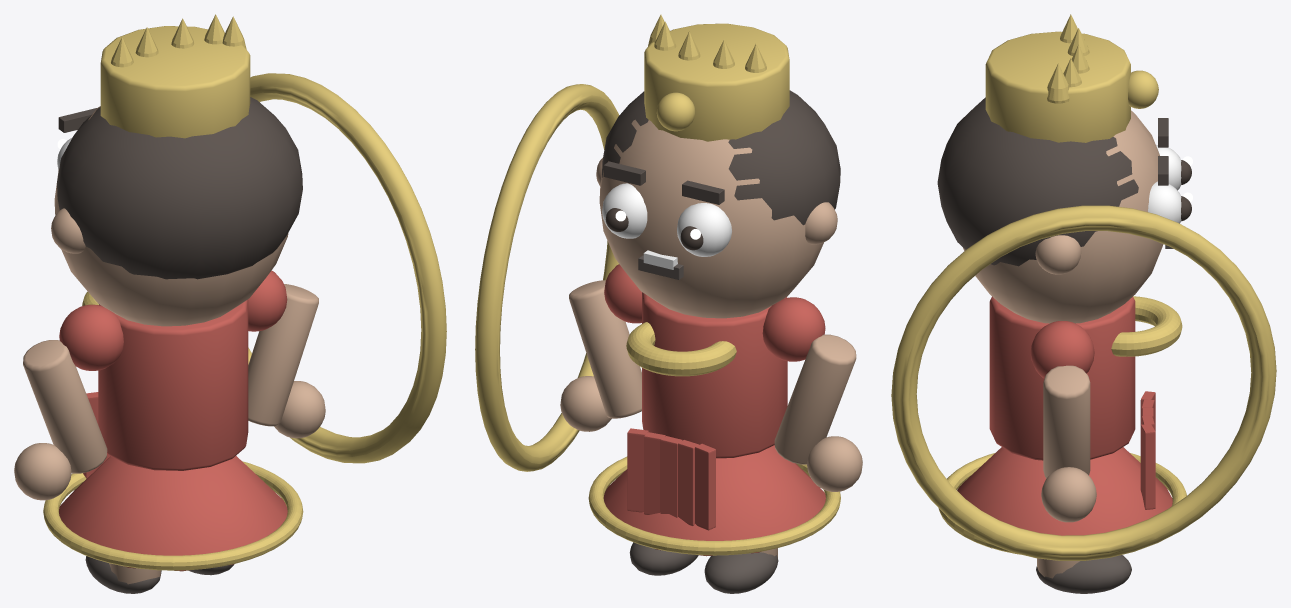
The model's file is warrior.glb.
The picture shows the model from 3 angles, left to right: view 1: azimuth 30°, elevation 25°; view 2: azimuth 150°, elevation 25°; view 3: azimuth 270°, elevation 25°; orthographic projection. The views are drawn at different scales.
Visible parts, largest first — view 1: GEO-warrior-hair, GEO-warrior-torso, GEO-warrior-dhoti, GEO-warrior-bow, GEO-warrior-mukut, GEO-warrior-head, GEO-warrior-arm, GEO-warrior-hem, GEO-warrior-arm.001, GEO-warrior-shoulder, GEO-warrior-hand, GEO-warrior-hand.001 (+4 smaller); view 2: GEO-warrior-head, GEO-warrior-torso, GEO-warrior-bow, GEO-warrior-mukut, GEO-warrior-hair, GEO-warrior-dhoti, GEO-warrior-arm, GEO-warrior-arm.001, GEO-warrior-hem, GEO-warrior-necklace, GEO-warrior-shoulder, GEO-warrior-hand (+16 smaller); view 3: GEO-warrior-bow, GEO-warrior-hair, GEO-warrior-torso, GEO-warrior-head, GEO-warrior-mukut, GEO-warrior-dhoti, GEO-warrior-arm.001, GEO-warrior-shoulder.001, GEO-warrior-necklace, GEO-warrior-hand.001, GEO-warrior-shoe.001, GEO-warrior-hem (+7 smaller).
Part boxes in pixels (<box>): GEO-warrior-hair: <box>57,97,302,279</box>; GEO-warrior-torso: <box>98,299,248,470</box>; GEO-warrior-dhoti: <box>59,456,287,571</box>; GEO-warrior-bow: <box>248,73,446,463</box>; GEO-warrior-mukut: <box>100,26,250,138</box>; GEO-warrior-head: <box>54,106,288,326</box>; GEO-warrior-arm: <box>23,340,107,473</box>; GEO-warrior-hem: <box>43,461,303,570</box>; GEO-warrior-arm.001: <box>248,284,318,426</box>; GEO-warrior-shoulder: <box>59,304,123,370</box>; GEO-warrior-hand: <box>14,443,71,500</box>; GEO-warrior-hand.001: <box>274,381,325,438</box>; GEO-warrior-head: <box>599,119,823,318</box>; GEO-warrior-torso: <box>642,292,787,458</box>; GEO-warrior-bow: <box>475,84,619,471</box>; GEO-warrior-mukut: <box>644,23,789,141</box>; GEO-warrior-hair: <box>602,90,840,225</box>; GEO-warrior-dhoti: <box>603,445,825,556</box>; GEO-warrior-arm: <box>774,334,856,464</box>; GEO-warrior-arm.001: <box>569,280,641,418</box>; GEO-warrior-hem: <box>588,456,840,555</box>; GEO-warrior-necklace: <box>626,322,736,376</box>; GEO-warrior-shoulder: <box>762,297,825,361</box>; GEO-warrior-hand: <box>807,436,862,491</box>; GEO-warrior-bow: <box>891,205,1276,560</box>; GEO-warrior-hair: <box>937,97,1138,266</box>; GEO-warrior-torso: <box>989,296,1135,460</box>; GEO-warrior-head: <box>963,110,1163,323</box>; GEO-warrior-mukut: <box>985,31,1130,142</box>; GEO-warrior-dhoti: <box>957,447,1172,548</box>; GEO-warrior-arm.001: <box>1043,365,1090,478</box>; GEO-warrior-shoulder.001: <box>1030,321,1094,378</box>; GEO-warrior-necklace: <box>1111,296,1182,356</box>; GEO-warrior-hand.001: <box>1041,467,1096,522</box>; GEO-warrior-shoe.001: <box>1036,555,1131,593</box>; GEO-warrior-hem: <box>938,453,1186,554</box>.
Bounding box in the file's own units: 1.77 × 2.76 × 1.8.
